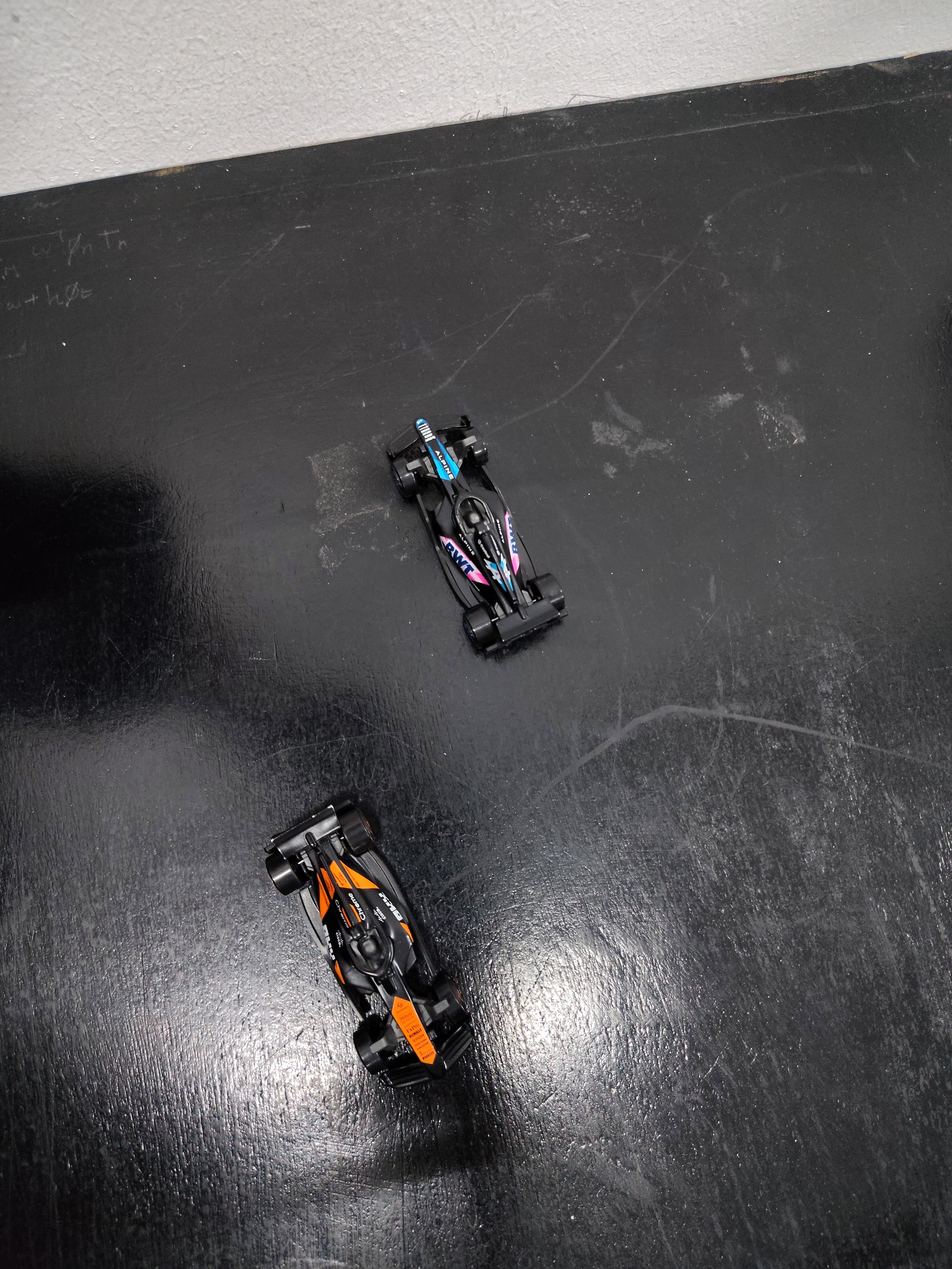Alpine A524: (338, 367, 606, 694)
McLaren MCL40: (209, 745, 510, 1104)
